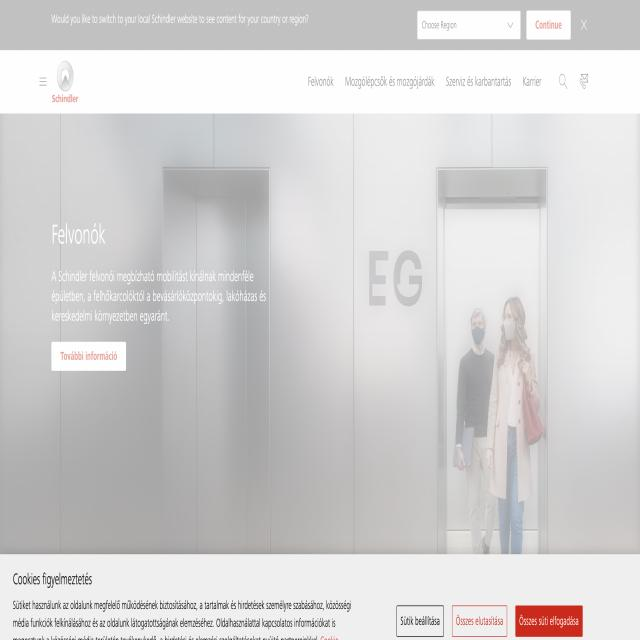Logo: (48, 54, 88, 114)
Navigation: (298, 54, 608, 102)
